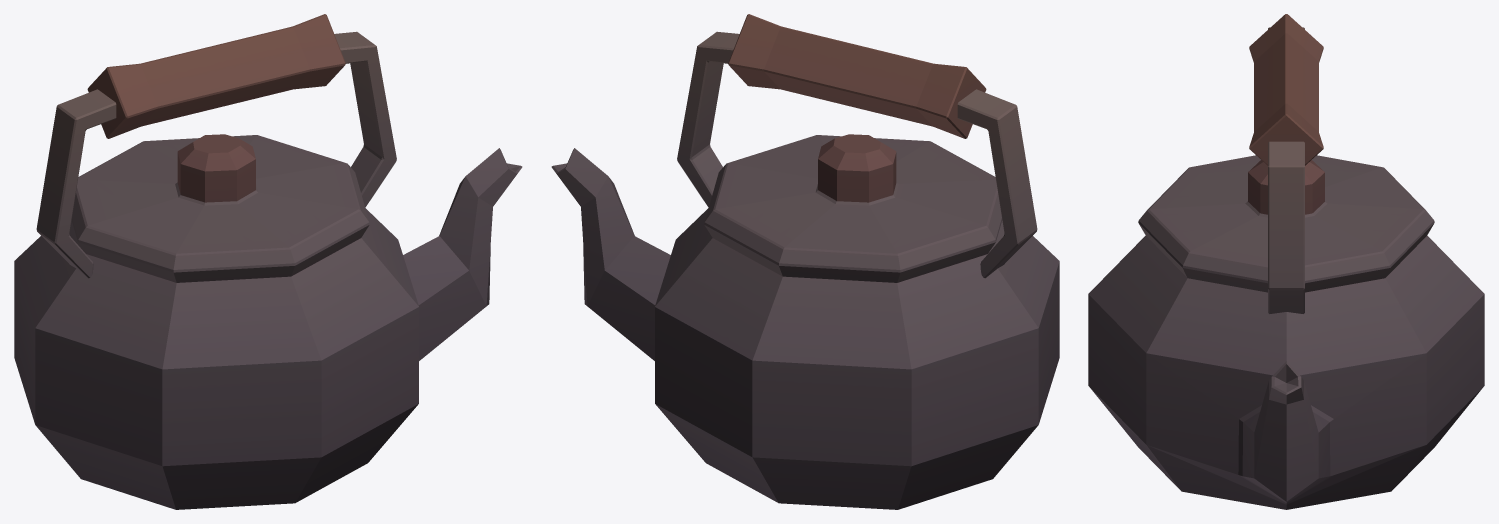
The model's file is SM_Teapot.fbx.
3 renders of one model, left to right at view 1: azimuth 30°, elevation 25°; view 2: azimuth 150°, elevation 25°; view 3: azimuth 270°, elevation 25°, orthographic. The views are drawn at different scales.
Parts seen in each view (by area): view 1: teapot; view 2: teapot; view 3: teapot.
Part boxes in pixels (box(x1,y1,x2,y2)): teapot: box(14, 14, 522, 509); teapot: box(551, 14, 1059, 509); teapot: box(1088, 14, 1484, 509).
Size of the model in its own units: 35.9 by 28.51 by 26.73.
